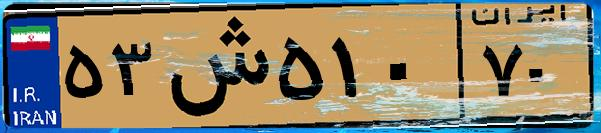0: (385, 28, 445, 110), (525, 38, 570, 115)
1: (330, 28, 385, 110)
3: (110, 28, 158, 98)
5: (270, 28, 330, 110), (57, 26, 110, 100)
7: (475, 38, 525, 113)
ش: (158, 12, 270, 120)
